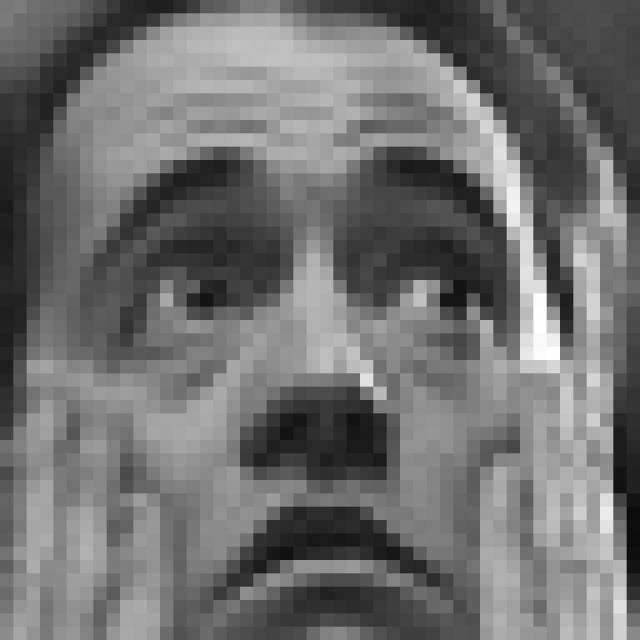fear: (86, 129, 517, 640)
